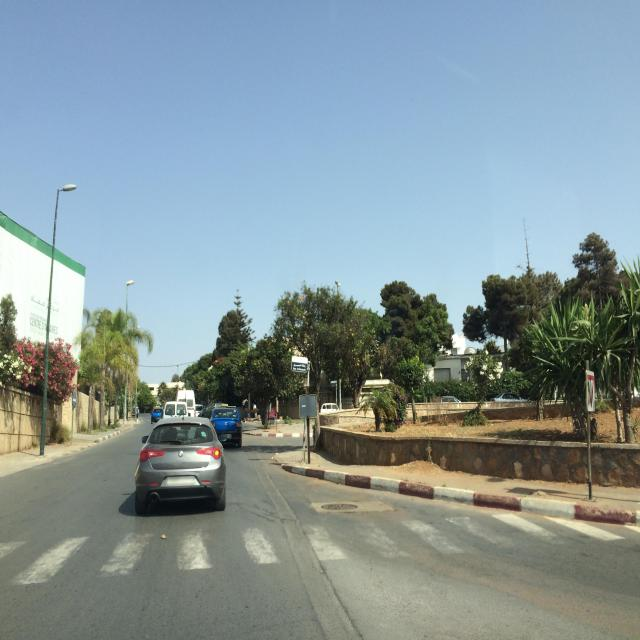Good: (318, 500, 364, 513)
